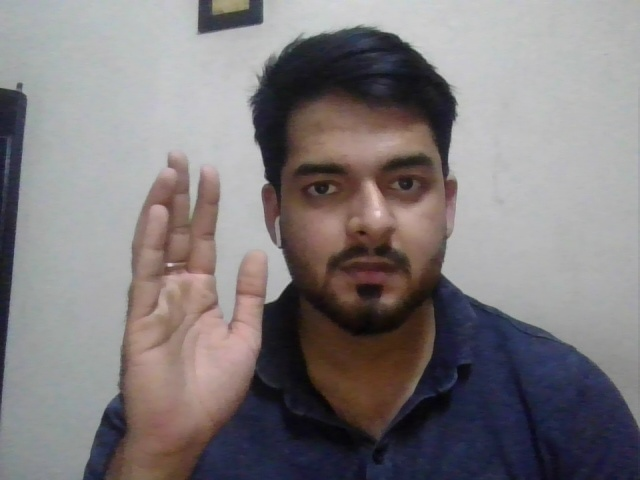hello: (114, 144, 270, 446)
